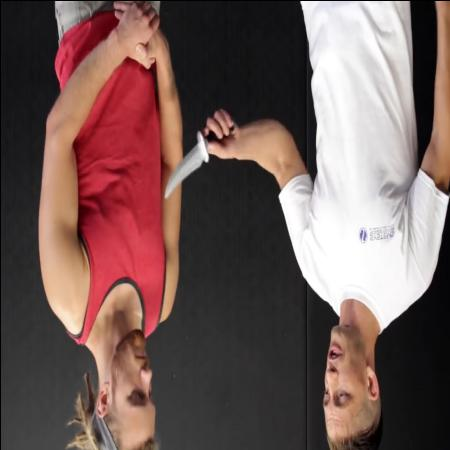long weapon: (160, 110, 235, 204)
